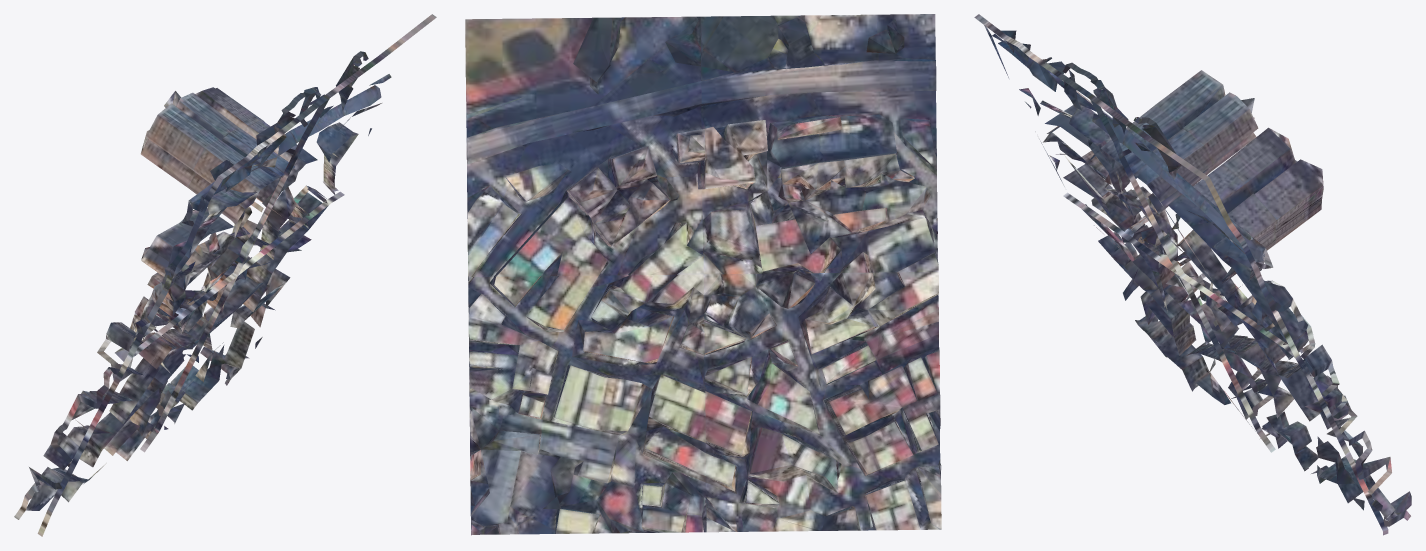
3 views of the same model, side by side, from view 1: azimuth 30°, elevation 25°; view 2: azimuth 150°, elevation 25°; view 3: azimuth 270°, elevation 25° (orthographic). The views are drawn at different scales.
Size of the model in its own units: 316 by 282 by 271.
Materials: 1 (1 with a texture image).
